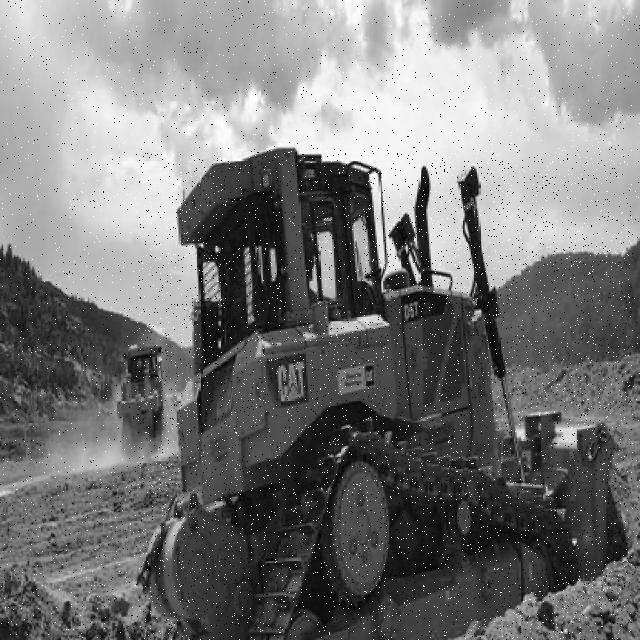Construction Equipment: (137, 148, 633, 640)
